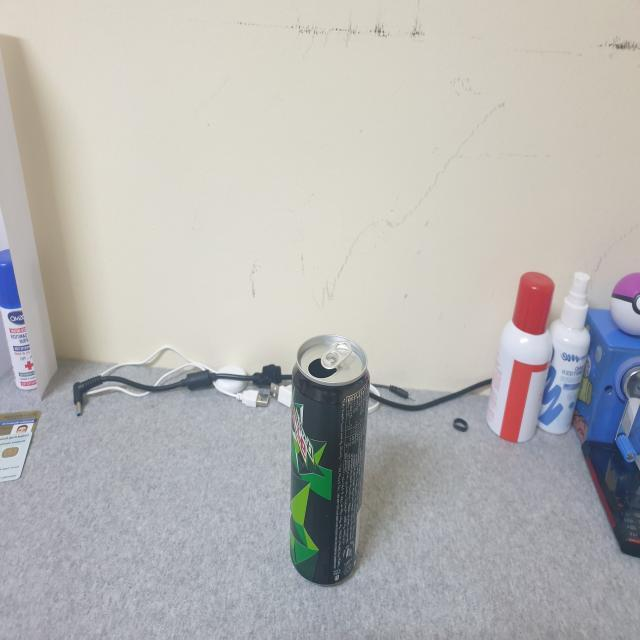can: (280, 324, 376, 589)
